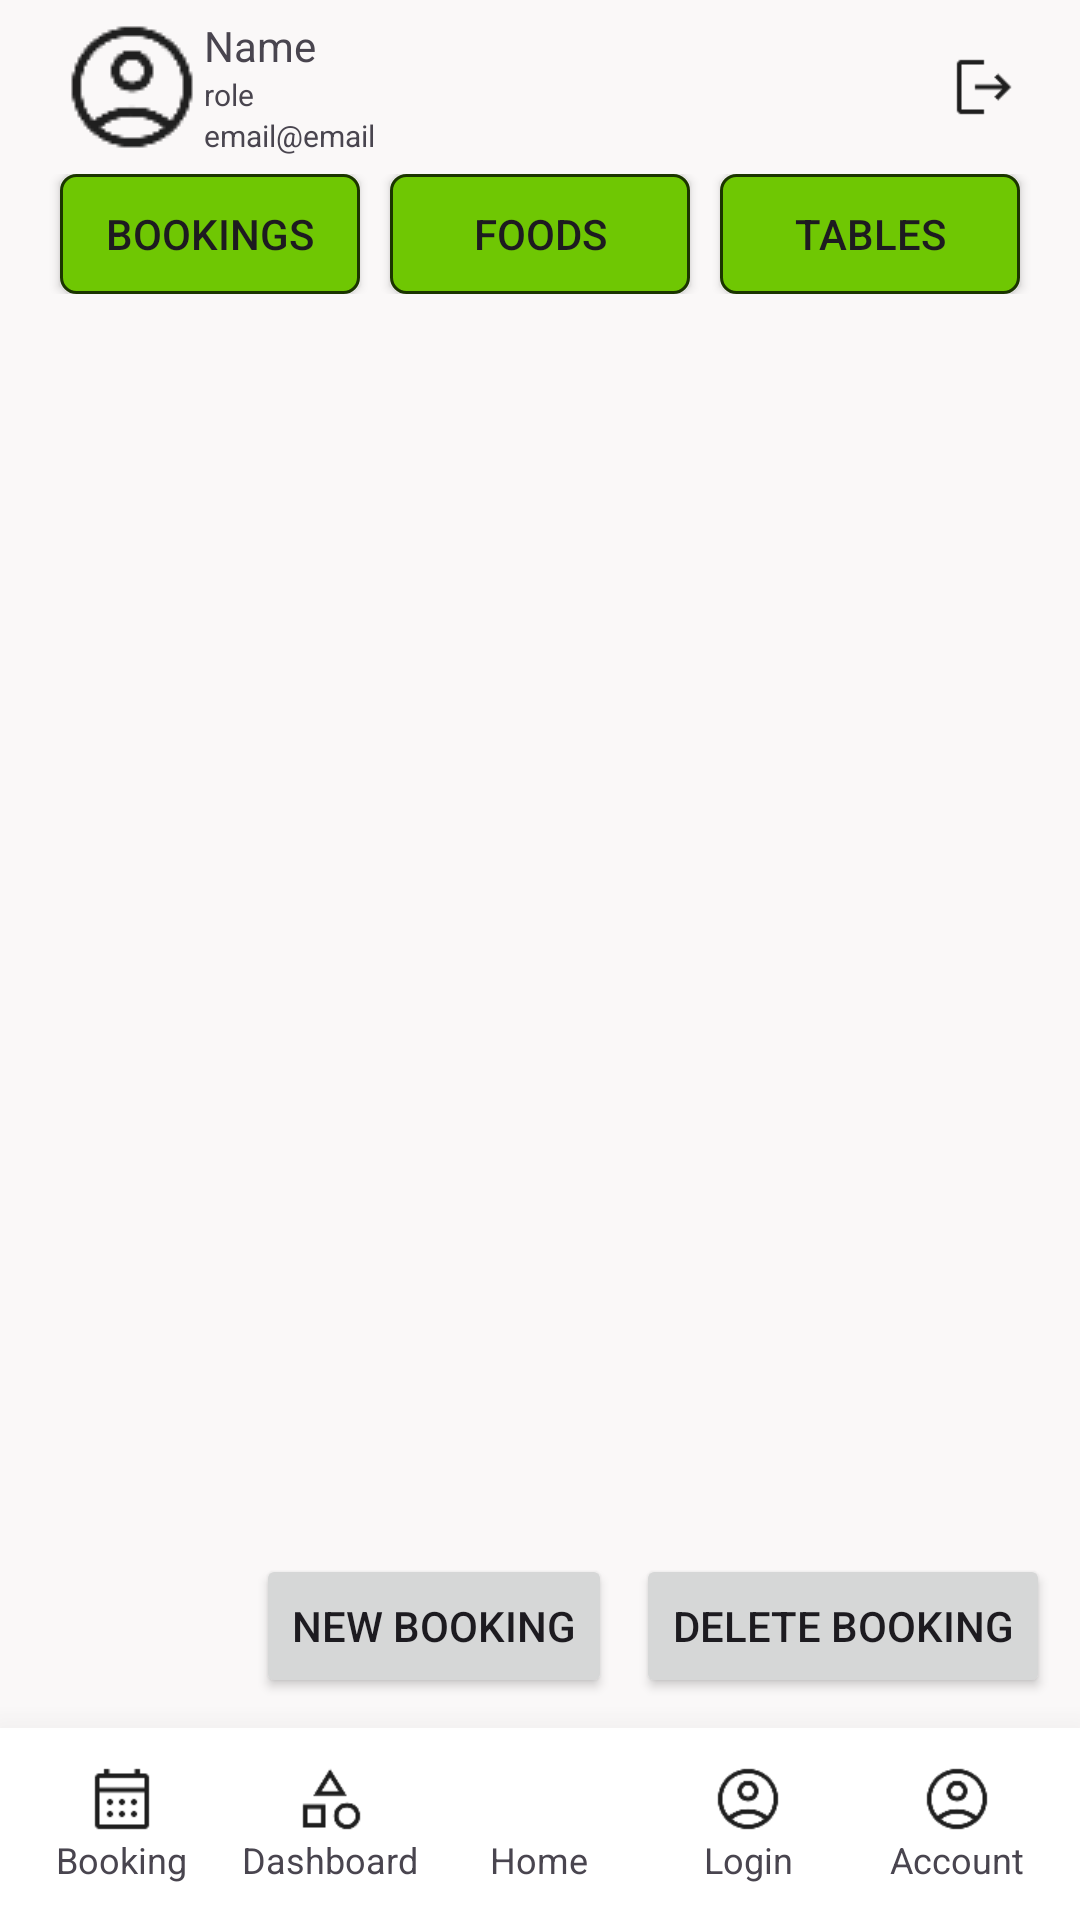

Named icons in this screenshot (1080 × 1920) and their centers, (x,y):
calendar: (122,1799)
category: (331,1799)
